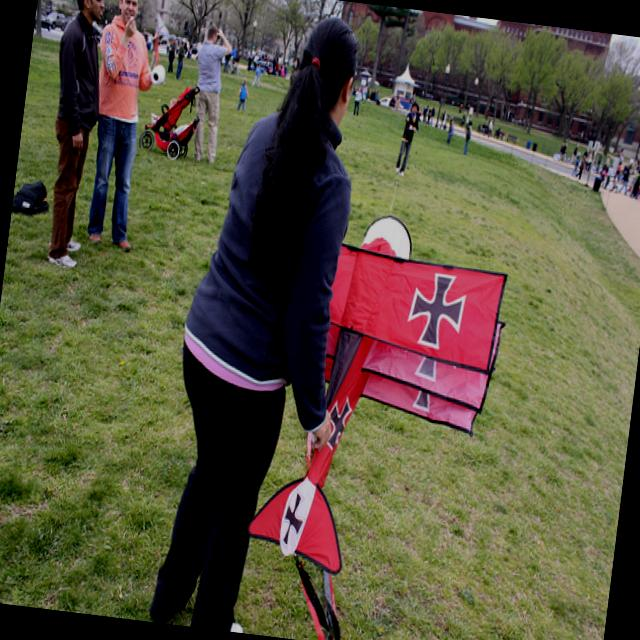Vehicle: (34, 8, 52, 32), (44, 10, 66, 29)
